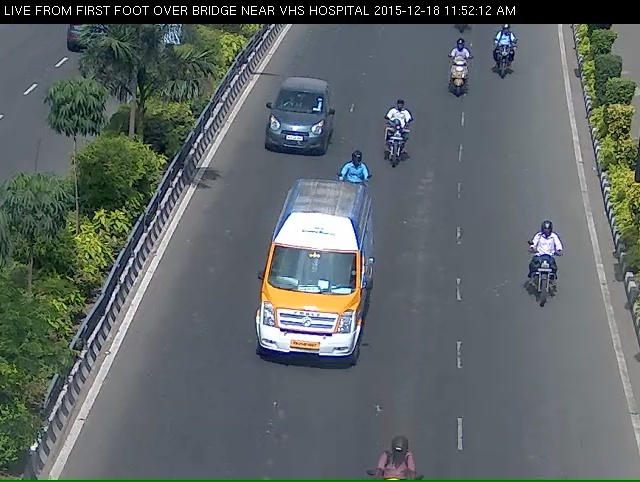Bus: (267, 195, 360, 394)
Car: (262, 86, 330, 170)
Person: (526, 234, 566, 326), (382, 111, 416, 181), (446, 49, 479, 117), (338, 163, 368, 226), (491, 31, 522, 86)
